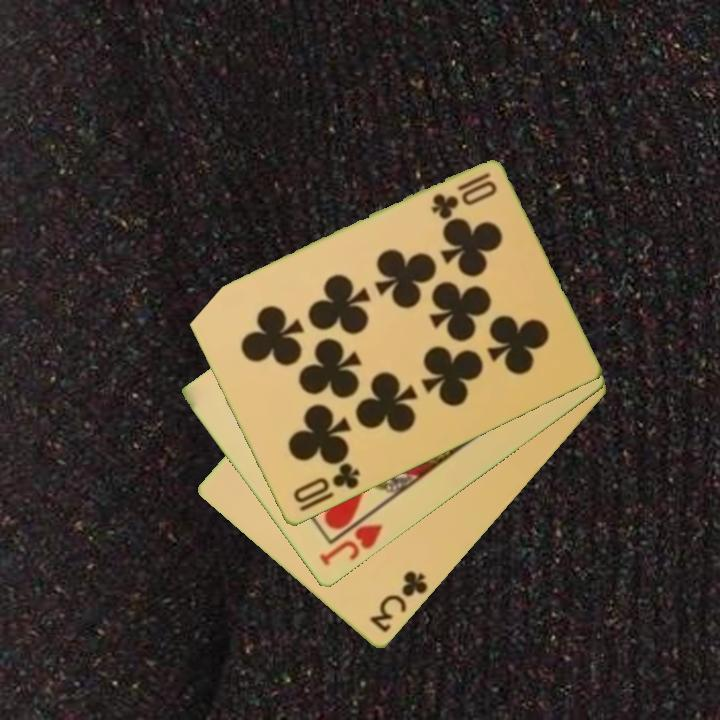10c: (289, 459, 363, 507), (427, 169, 494, 222)
3c: (366, 568, 431, 636)
Jh: (315, 507, 385, 570)
